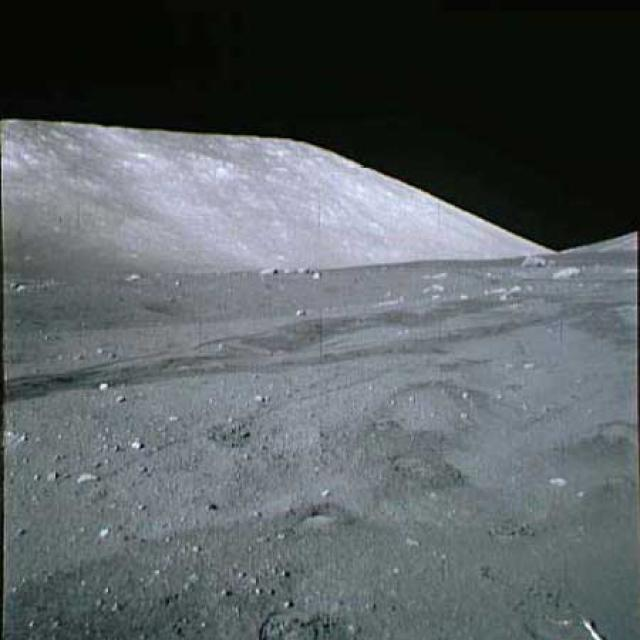crater: (136, 286, 441, 318)
rock: (281, 262, 326, 280), (518, 250, 554, 270), (550, 265, 583, 286), (258, 258, 278, 278)
